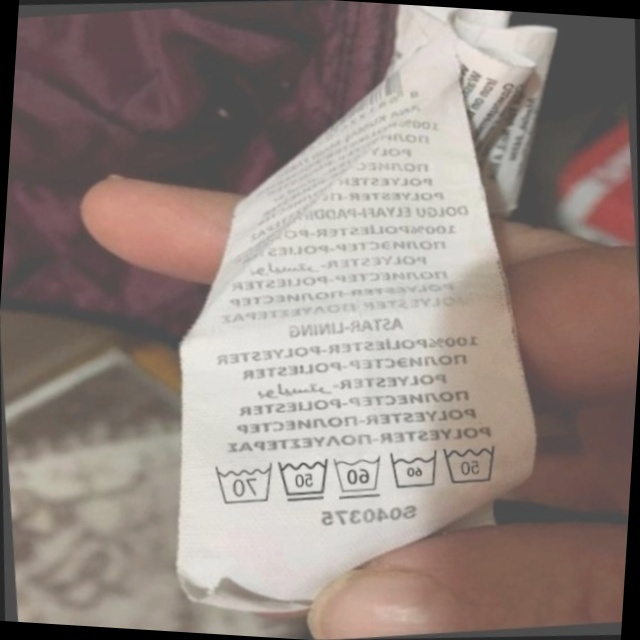50C: (433, 431, 508, 496), (269, 448, 337, 511)
60C: (324, 445, 389, 506), (380, 440, 446, 500)
70C: (203, 453, 279, 514)
